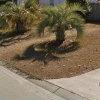Palm tree: (39, 5, 90, 44)
